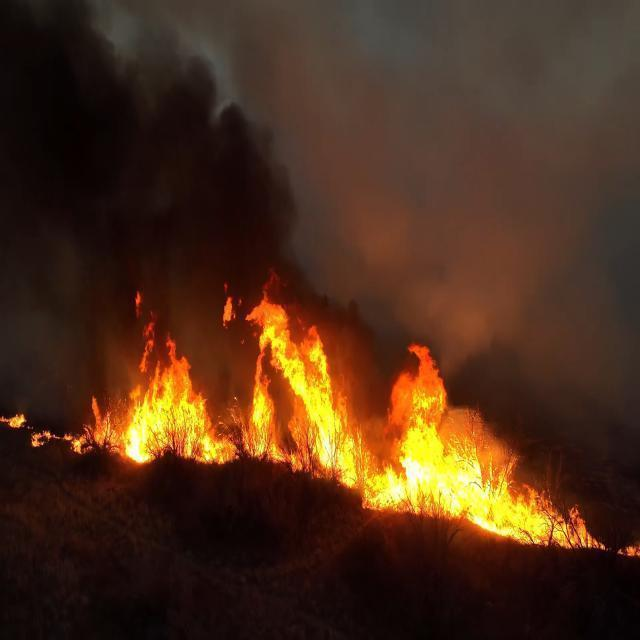Fire: (243, 280, 343, 480), (382, 332, 479, 523), (116, 295, 217, 472), (470, 444, 552, 542)
Smoke: (0, 0, 262, 267), (0, 0, 94, 416)
